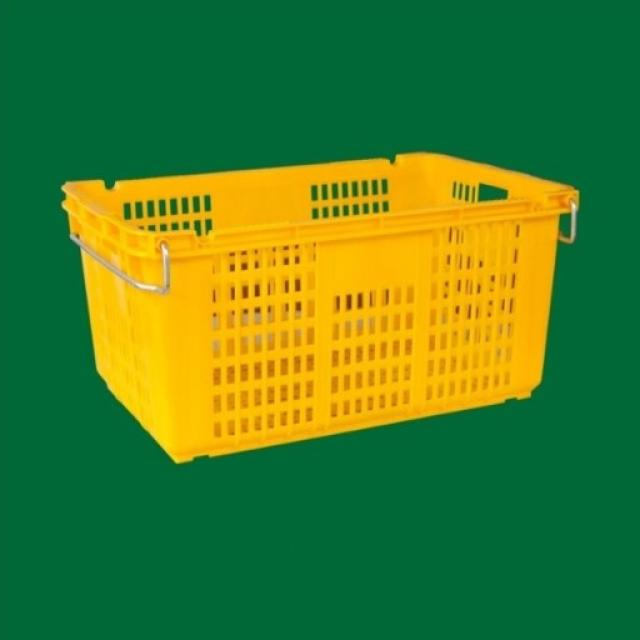basket: (58, 88, 616, 476)
